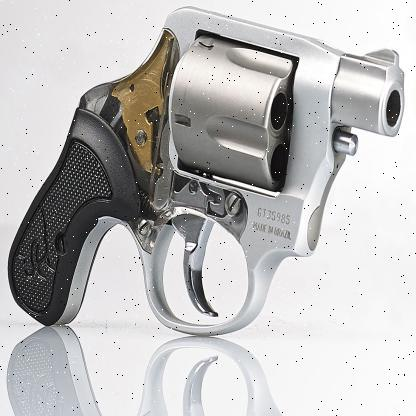pistol: (5, 7, 409, 337)
